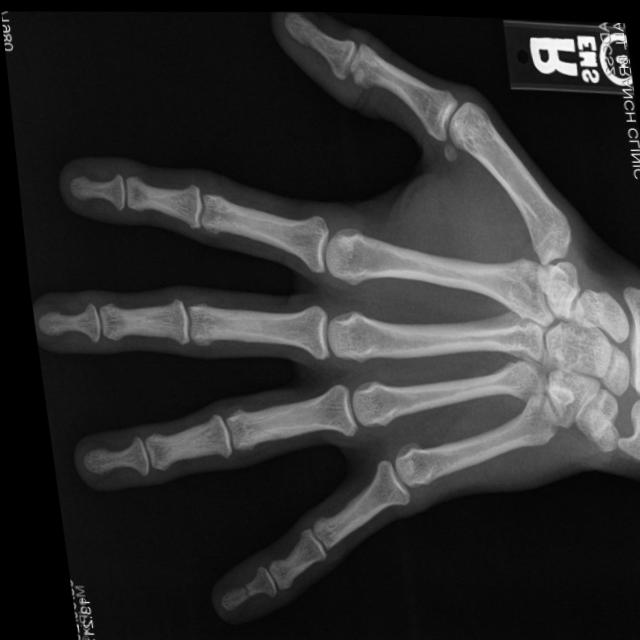fracture: (227, 581, 237, 597)
